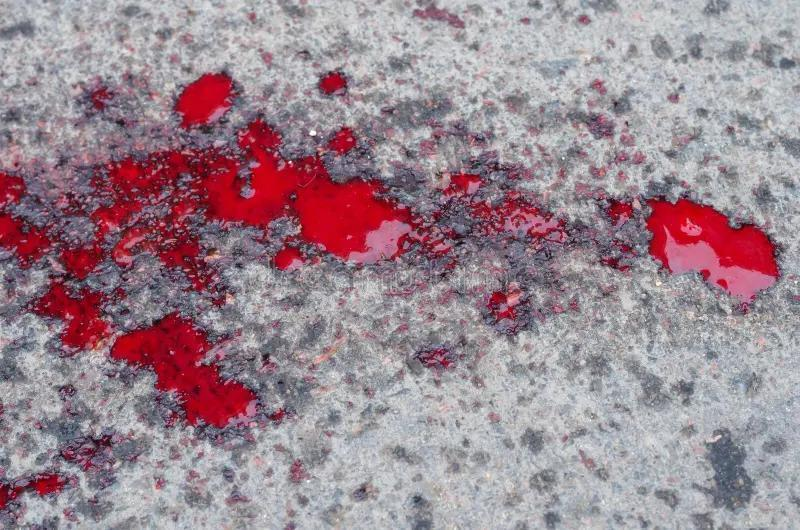Fire: (0, 118, 419, 350), (60, 118, 413, 290), (110, 313, 256, 428), (649, 199, 781, 302), (30, 283, 110, 350), (469, 192, 569, 242), (0, 172, 50, 267), (59, 433, 122, 490), (174, 73, 237, 128), (0, 474, 66, 510), (486, 283, 532, 334), (400, 224, 453, 259), (443, 174, 485, 197), (273, 246, 306, 270), (328, 127, 357, 154), (417, 348, 456, 368), (609, 199, 634, 226), (319, 71, 347, 94), (89, 86, 113, 110)
